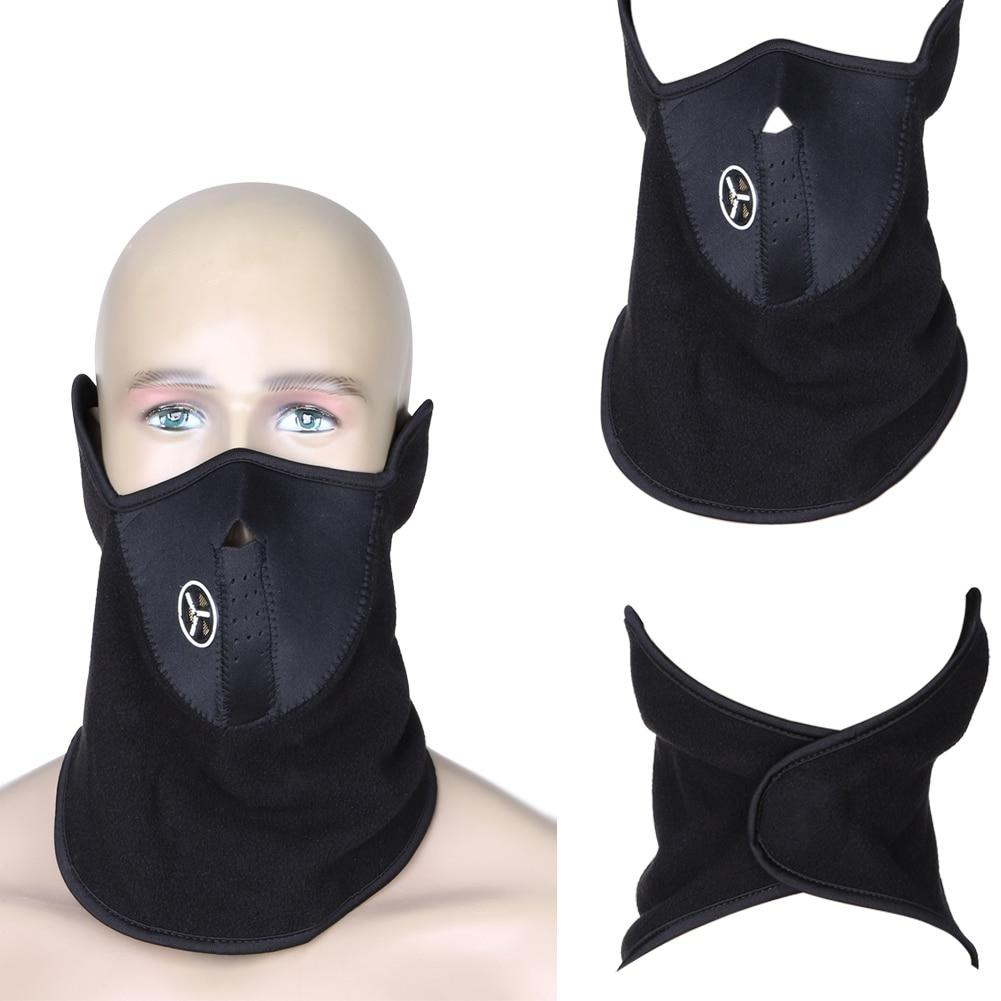Wearing Mask: (45, 202, 482, 1001)
